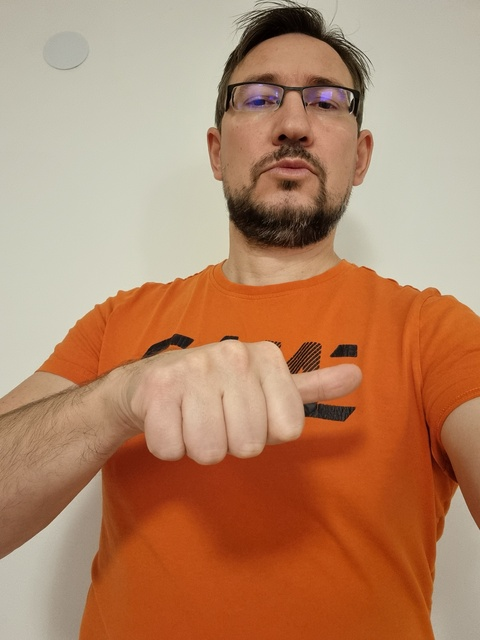GestBack: (146, 339, 360, 465)
